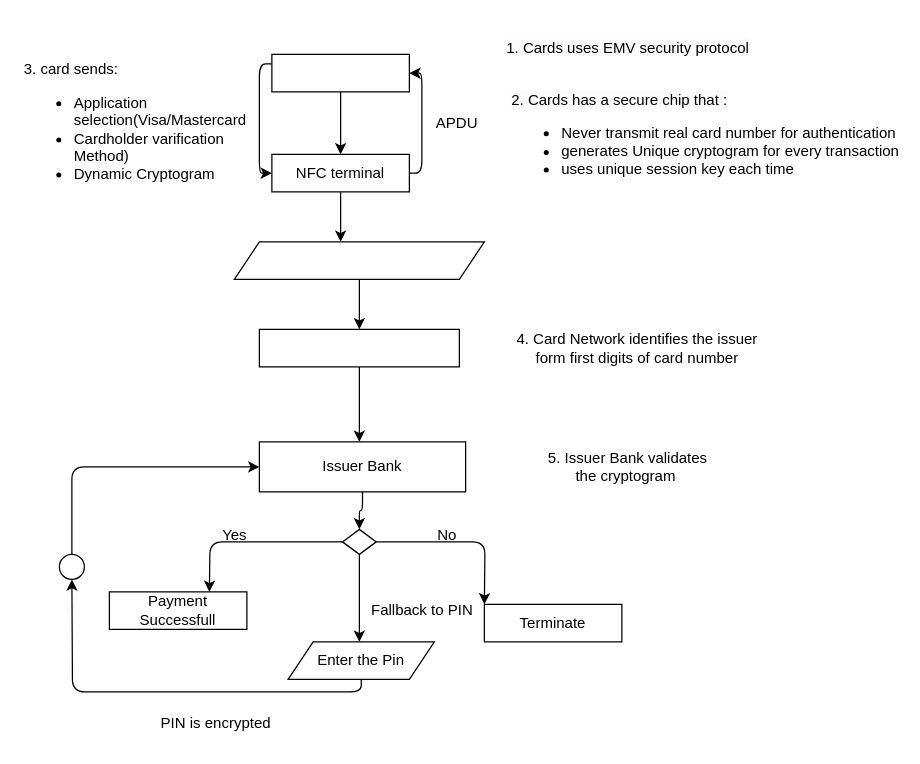
Image size: 920x764. Some labels were removed from this diagram. Each missing label, with the box of its shape:
Card: (271, 53, 409, 92)
Card Network: (258, 328, 459, 367)
Sends card Data to marchats payment processor: (233, 241, 484, 279)
